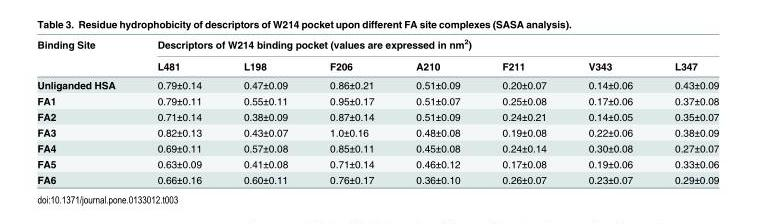table: (36, 36, 718, 185)
table column: (36, 36, 135, 185), (221, 36, 308, 185), (566, 36, 653, 185), (135, 36, 221, 185), (308, 36, 394, 185), (394, 36, 480, 185), (480, 36, 566, 185), (653, 36, 718, 185)
table column header: (36, 36, 718, 75)
table row: (36, 54, 718, 75), (36, 36, 718, 54), (36, 75, 718, 92), (36, 92, 718, 108), (36, 108, 718, 124), (36, 139, 718, 155), (36, 155, 718, 171), (36, 124, 718, 139), (36, 171, 718, 185)
table spanning cell: (135, 36, 718, 54), (36, 36, 135, 75)
